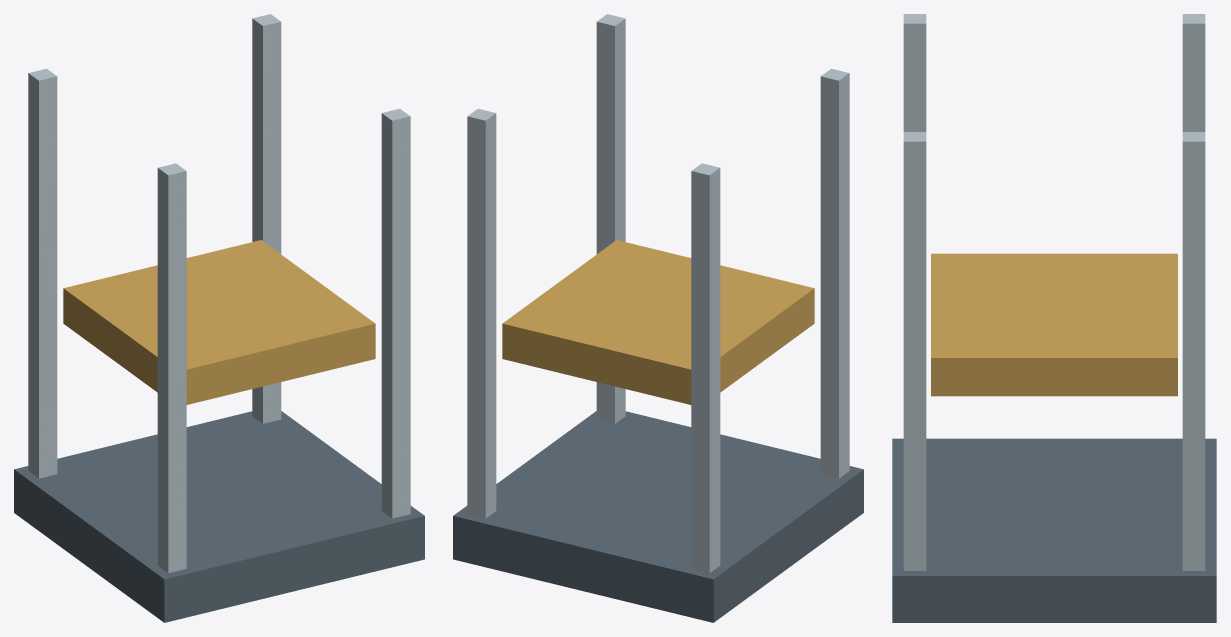
The model's file is elevator.glb.
The picture shows the model from 3 angles, left to right: view 1: azimuth 30°, elevation 25°; view 2: azimuth 150°, elevation 25°; view 3: azimuth 270°, elevation 25°; orthographic projection. The views are drawn at different scales.
Visible parts, largest first — view 1: lift platform, lift carriage, lift shaft rail.002, lift shaft rail, lift shaft rail.001, lift shaft rail.003; view 2: lift platform, lift carriage, lift shaft rail.003, lift shaft rail, lift shaft rail.001, lift shaft rail.002; view 3: lift platform, lift carriage, lift shaft rail.002, lift shaft rail.003, lift shaft rail, lift shaft rail.001.
Part boxes in pixels (x1=…): lift platform: x1=14, y1=411, x2=424, y2=622; lift carriage: x1=63, y1=240, x2=375, y2=404; lift shaft rail.002: x1=381, y1=108, x2=410, y2=518; lift shaft rail: x1=157, y1=163, x2=186, y2=573; lift shaft rail.001: x1=28, y1=68, x2=57, y2=478; lift shaft rail.003: x1=252, y1=14, x2=281, y2=423; lift platform: x1=453, y1=411, x2=863, y2=622; lift carriage: x1=502, y1=240, x2=814, y2=404; lift shaft rail.003: x1=467, y1=108, x2=496, y2=518; lift shaft rail: x1=820, y1=68, x2=849, y2=478; lift shaft rail.001: x1=691, y1=163, x2=720, y2=573; lift shaft rail.002: x1=596, y1=14, x2=625, y2=423; lift platform: x1=892, y1=438, x2=1216, y2=622; lift carriage: x1=931, y1=253, x2=1177, y2=396; lift shaft rail.002: x1=903, y1=132, x2=926, y2=570; lift shaft rail.003: x1=1182, y1=132, x2=1205, y2=570; lift shaft rail: x1=903, y1=14, x2=926, y2=131; lift shaft rail.001: x1=1182, y1=14, x2=1205, y2=131.
Bounding box in the file's own units: 1 × 1.62 × 1.
